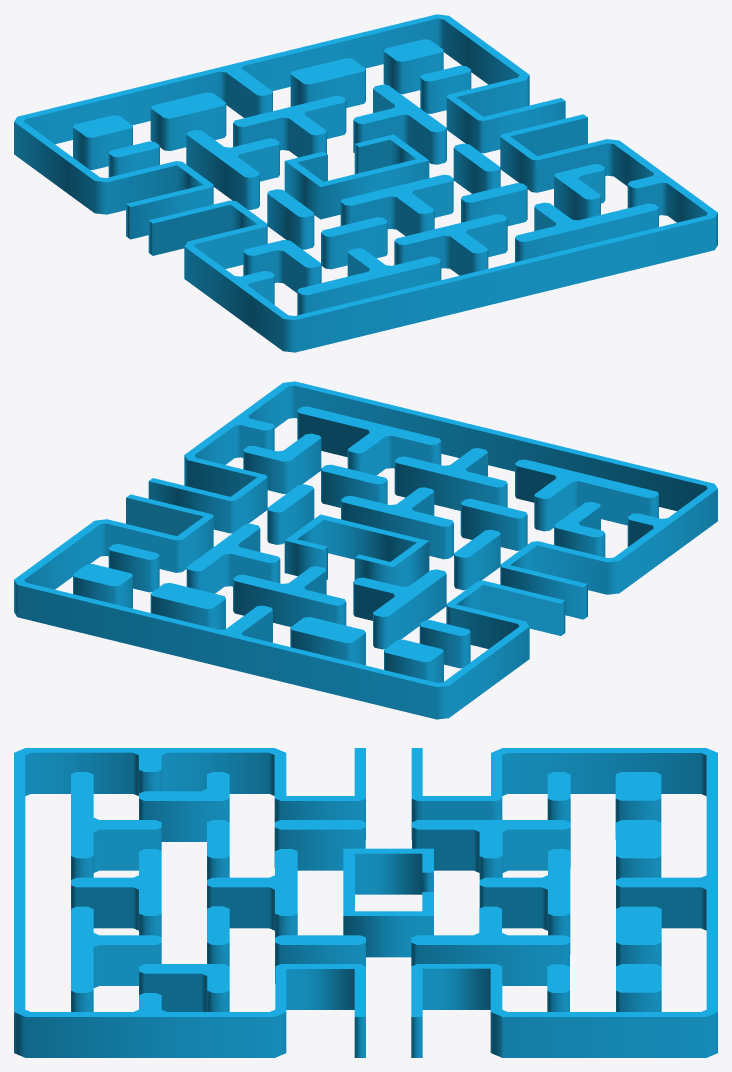
Rendered from maze.gltf.
3 views of the same model, one above another, from view 1: azimuth 30°, elevation 25°; view 2: azimuth 150°, elevation 25°; view 3: azimuth 270°, elevation 25° (orthographic). The views are drawn at different scales.
Visible parts, largest first — view 1: Curve.000; view 2: Curve.000; view 3: Curve.000.
Boxes of the visible parts, x1,y1,x2,y2 form: Curve.000: (14, 14, 717, 352); Curve.000: (14, 381, 717, 719); Curve.000: (14, 748, 717, 1057).
Bounding box in the file's own units: 14.45 × 1.03 × 16.
